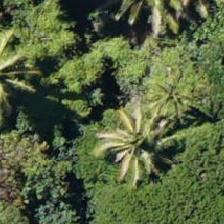coconut_tree: (96, 98, 186, 188)
